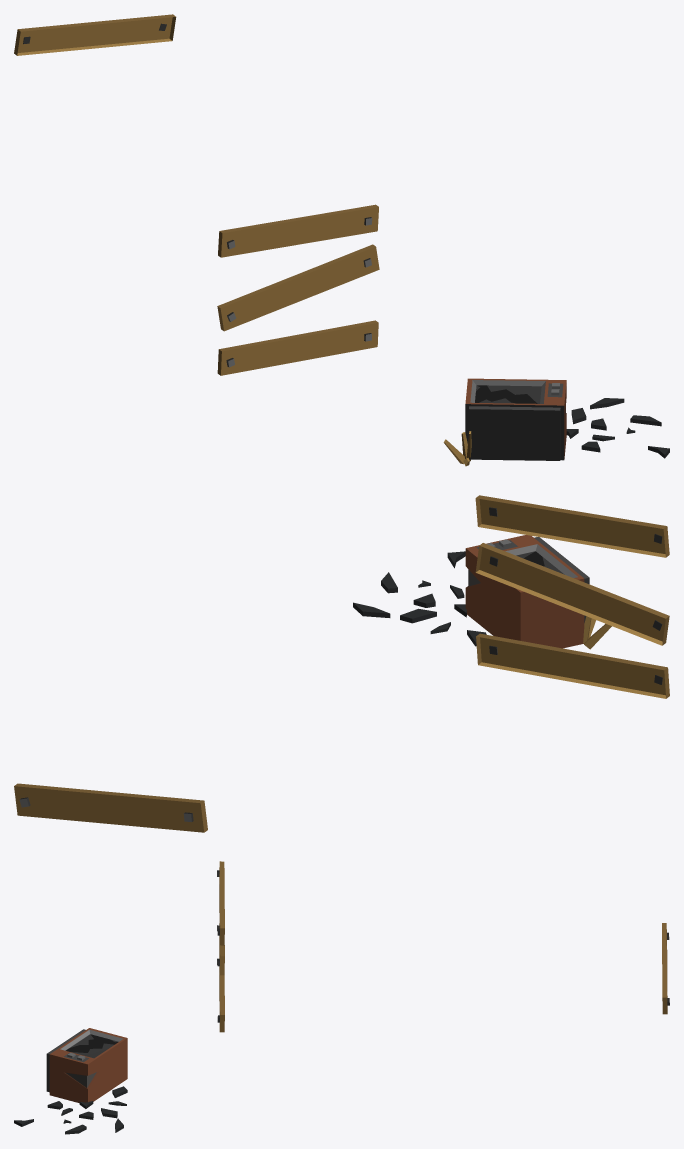
File: SA_Bld_ShopSmall_Extras_01.gltf
3 views of the same model, one above another, from view 1: azimuth 30°, elevation 25°; view 2: azimuth 150°, elevation 25°; view 3: azimuth 270°, elevation 25° (orthographic). The views are drawn at different scales.
Parts seen in each view (by area): view 1: SA_Bld_ShopSmall_Extras_01; view 2: SA_Bld_ShopSmall_Extras_01; view 3: SA_Bld_ShopSmall_Extras_01.
Boxes of the visible parts, <box> form: SA_Bld_ShopSmall_Extras_01: <box>14,14,669,466</box>; SA_Bld_ShopSmall_Extras_01: <box>14,495,669,832</box>; SA_Bld_ShopSmall_Extras_01: <box>14,861,669,1134</box>.
Size of the model in its own units: 5.7 by 3.31 by 12.77.
1 material, 1 textured.
